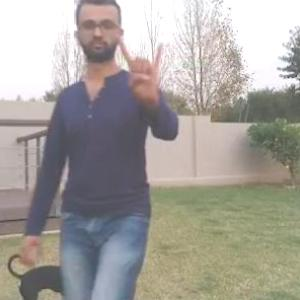takeoff-hand: (115, 34, 167, 100)
